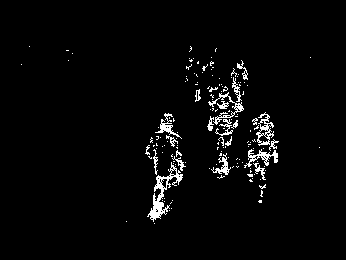person: (147, 110, 186, 223), (208, 86, 244, 185), (248, 109, 282, 207), (228, 60, 252, 109)
